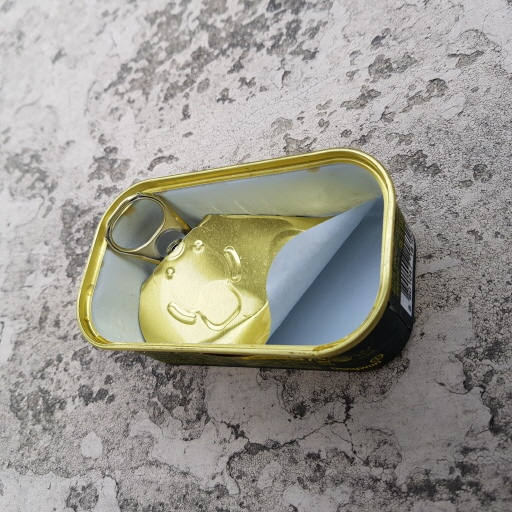Metal_2: (79, 144, 422, 384)
